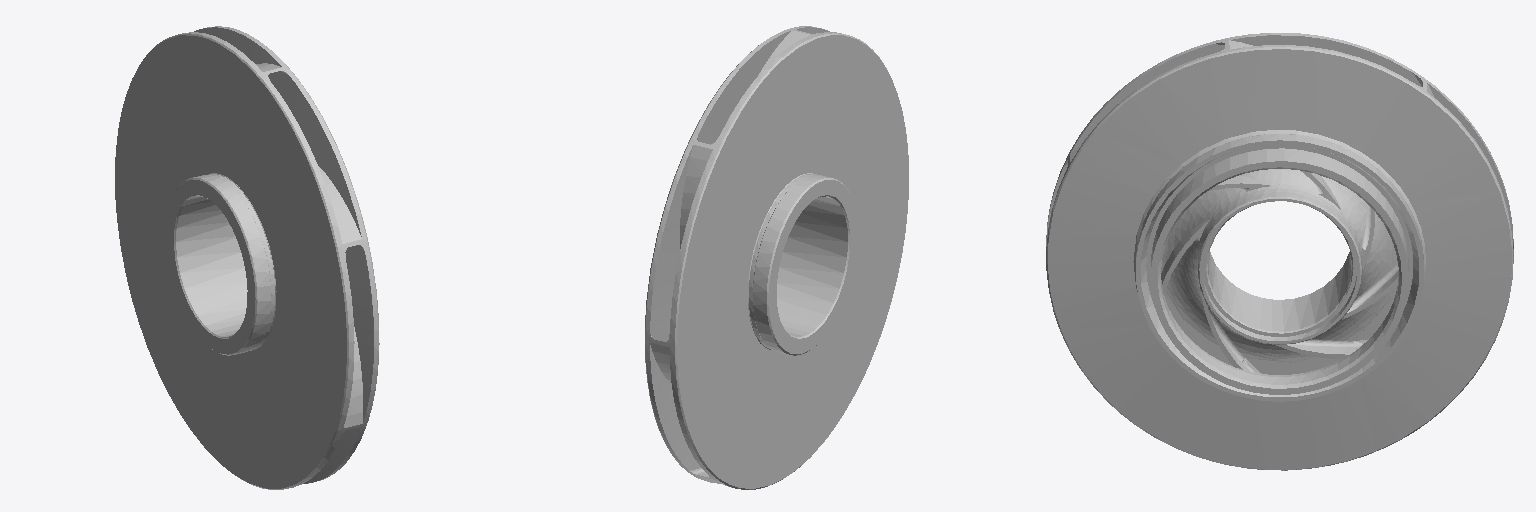
The model's file is the impeller of the last stage.obj.
3 renders of one model, left to right at view 1: azimuth 30°, elevation 25°; view 2: azimuth 150°, elevation 25°; view 3: azimuth 270°, elevation 25°, orthographic.
Visible parts, largest first — view 1: imagetostl_mesh; view 2: imagetostl_mesh; view 3: imagetostl_mesh.
Boxes of the visible parts, x1,y1,x2,y2 form: imagetostl_mesh: [115, 26, 379, 489]; imagetostl_mesh: [645, 26, 908, 489]; imagetostl_mesh: [1046, 33, 1513, 470].
Size of the model in its own units: 69 by 308 by 308.